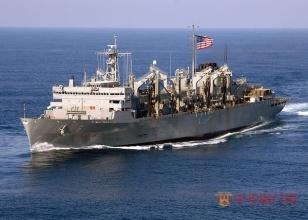warship: (19, 26, 288, 158)
